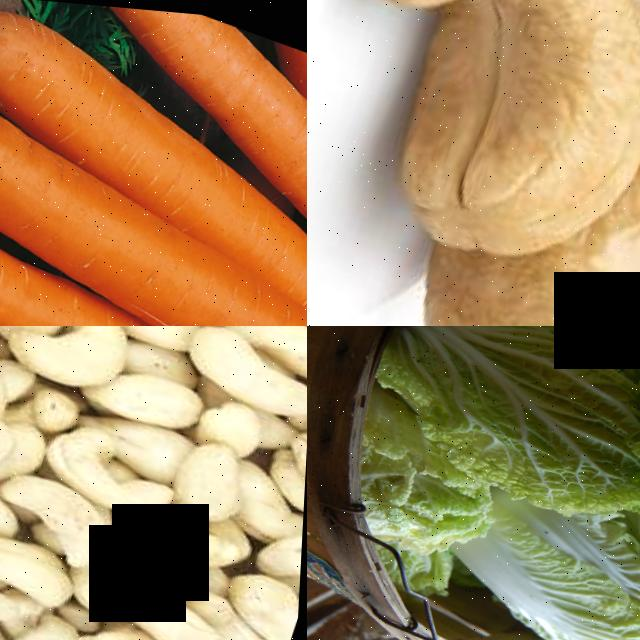cabbage: (333, 326, 640, 537), (460, 497, 640, 640)
carrot: (0, 48, 307, 274), (0, 123, 307, 326)
cashew: (307, 0, 640, 245), (547, 84, 640, 326), (0, 452, 125, 566), (183, 326, 307, 411), (173, 419, 260, 528), (121, 578, 258, 640), (0, 519, 81, 599), (0, 593, 105, 640)
